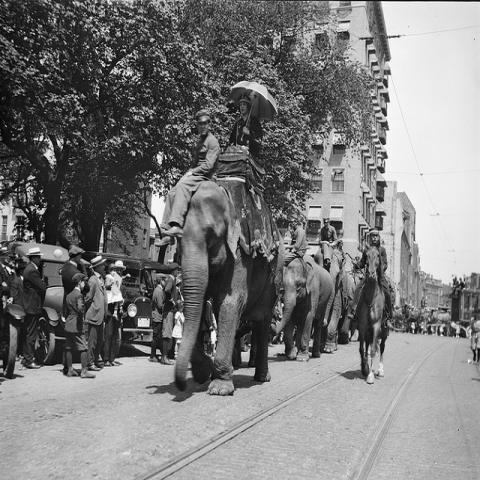car: (2, 240, 70, 366), (121, 261, 153, 342)
